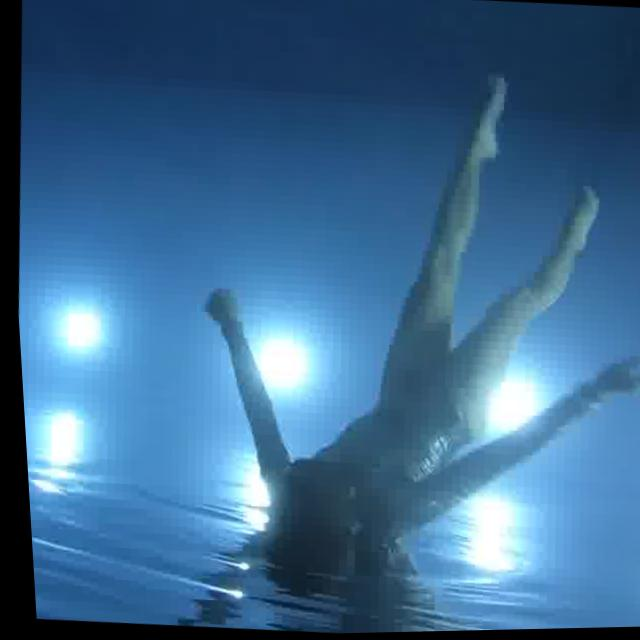human: (148, 37, 640, 635)
